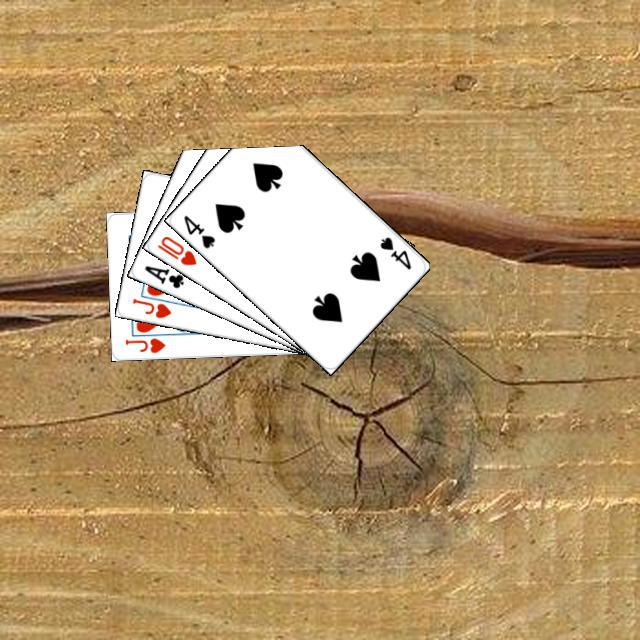10h: (152, 231, 198, 267)
4s: (178, 210, 217, 250), (375, 231, 413, 272)
Ac: (139, 260, 186, 290)
Jh: (127, 293, 173, 320), (120, 333, 167, 355)
